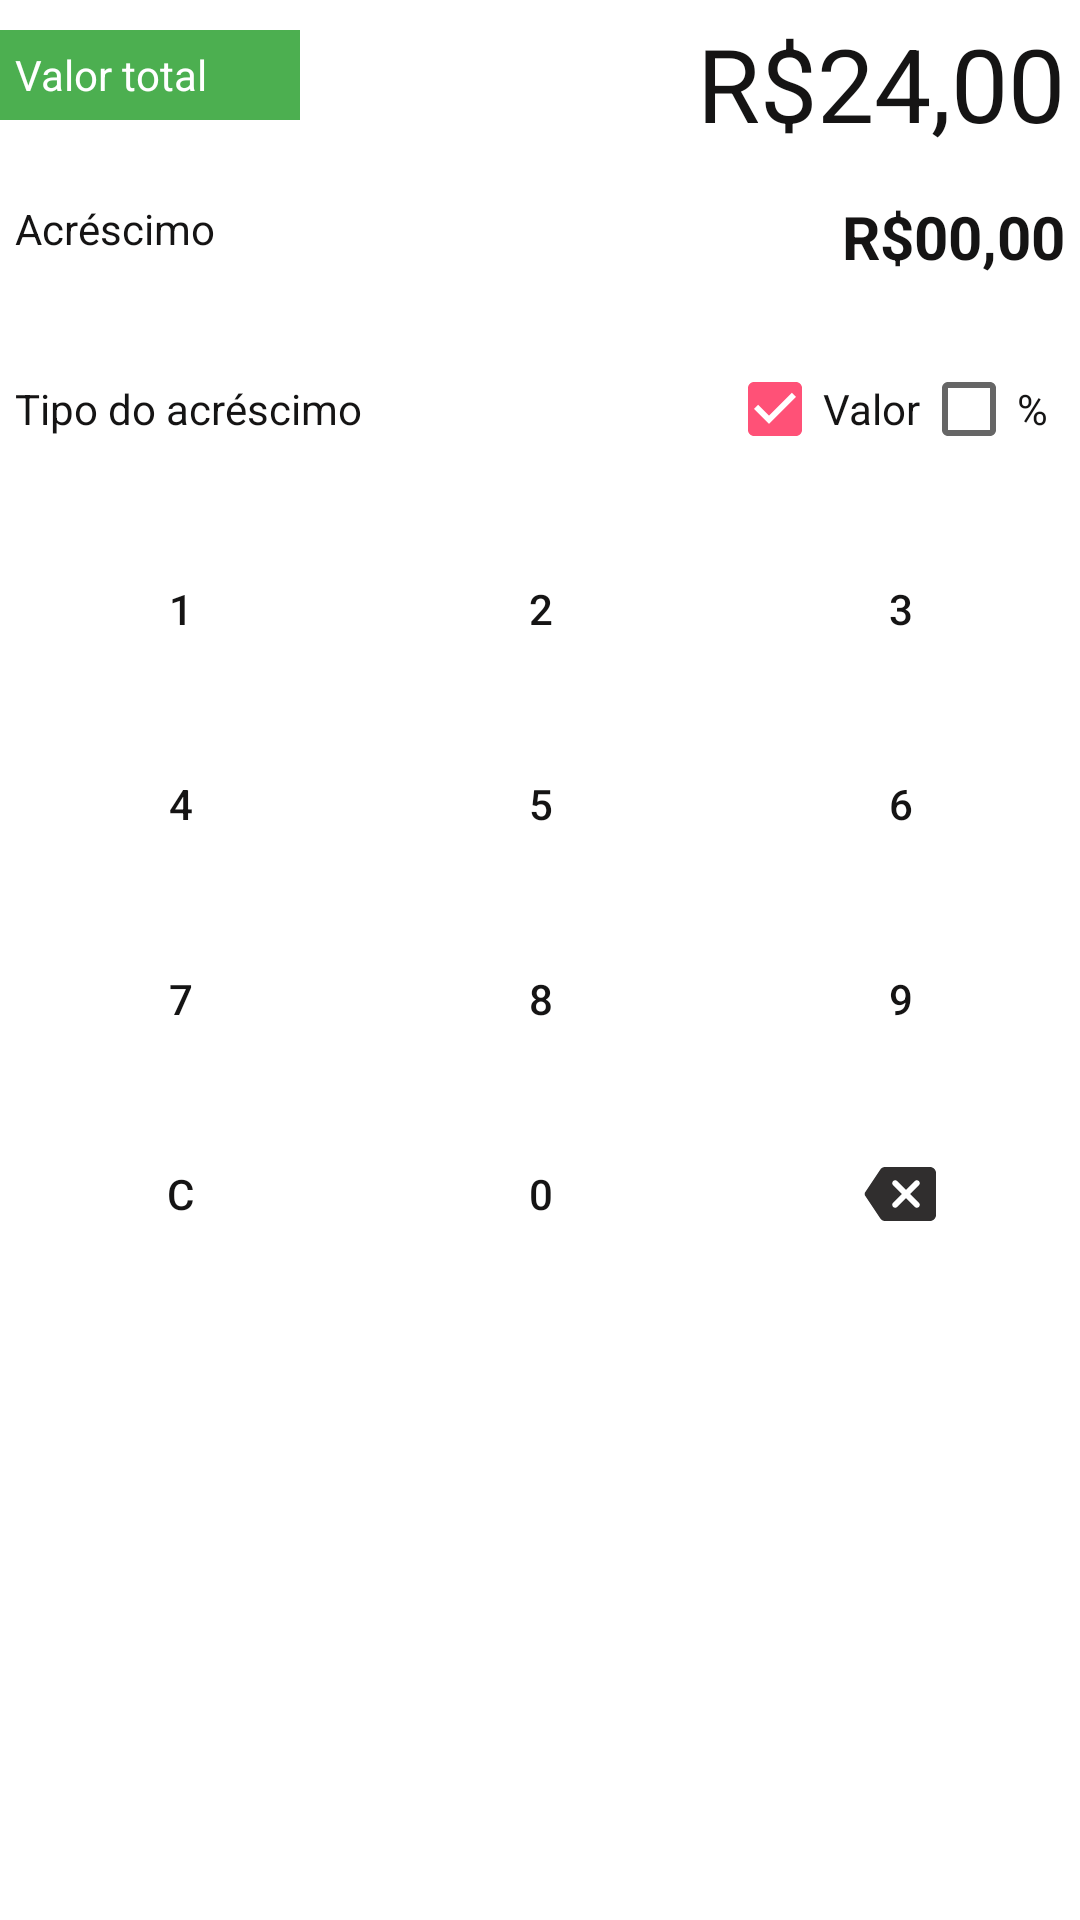

Icon bounding boxes for this 1080*1920 phone screenshot, format (x1, y1, x2, y2):
backspace: (864, 1167, 936, 1221)
